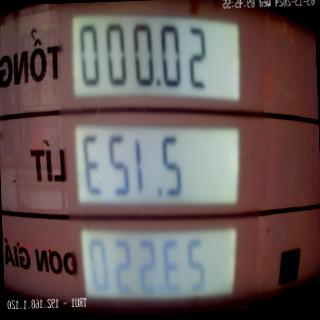screen: (67, 0, 259, 316)
